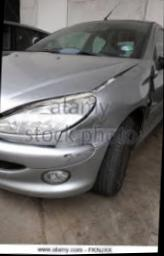Bonnet: (0, 47, 149, 125)
Bumper: (0, 139, 108, 198)
Fender: (54, 58, 154, 146)
